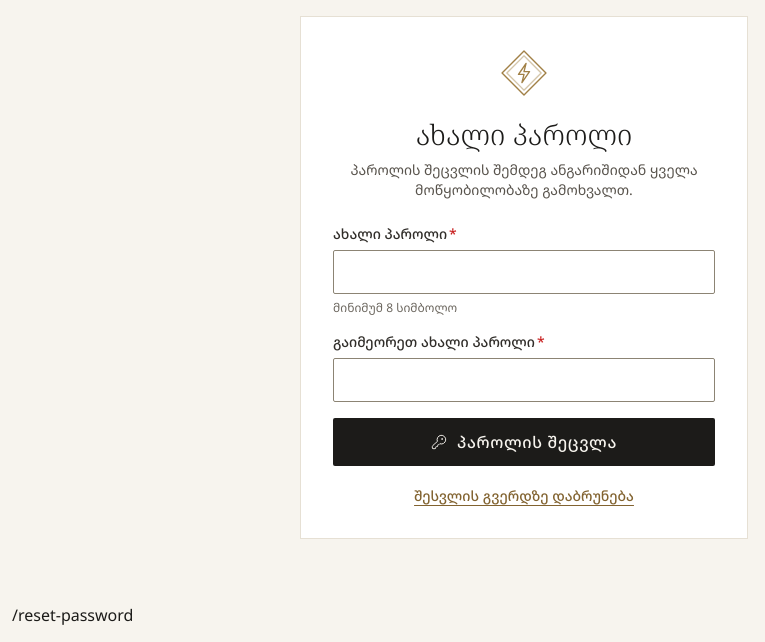
Test: the reset page › offers a new link when this one no longer works
The image size is (765, 642).
Type "brand-new-pass-7" into the password field labelled "ახალი პაროლი*" at (524, 272), box left=333, top=250, right=715, bottom=294
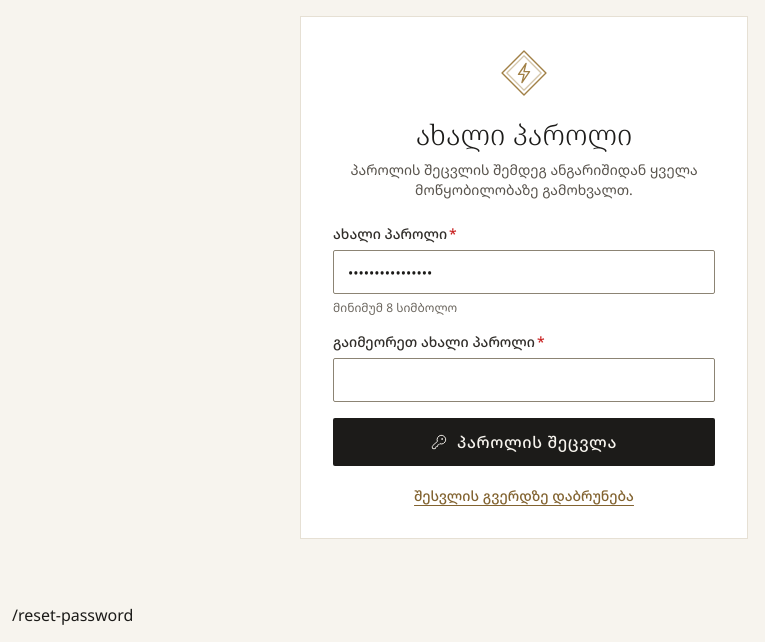
Type "brand-new-pass-7" into the password field labelled "გაიმეორეთ ახალი პაროლი*" at (524, 380), box left=333, top=358, right=715, bottom=402
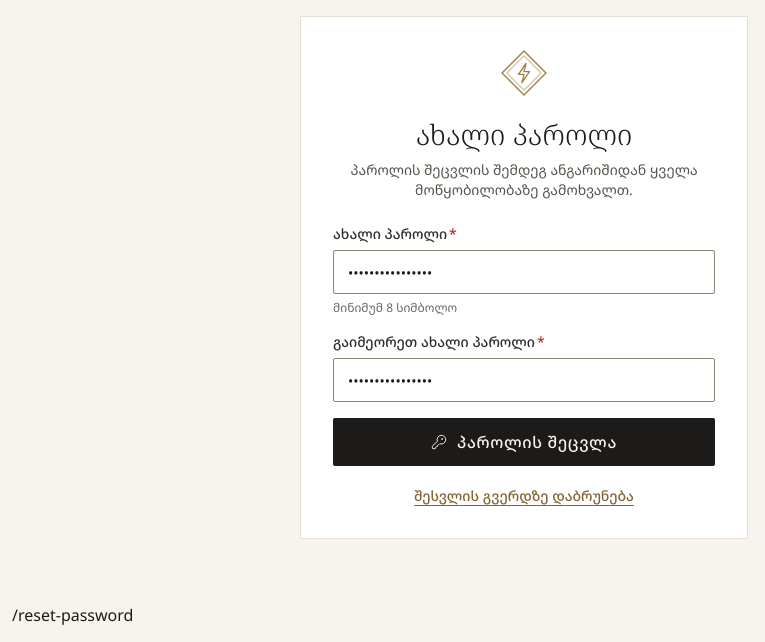
Click the button "პაროლის შეცვლა" at (524, 442), box left=333, top=418, right=715, bottom=466
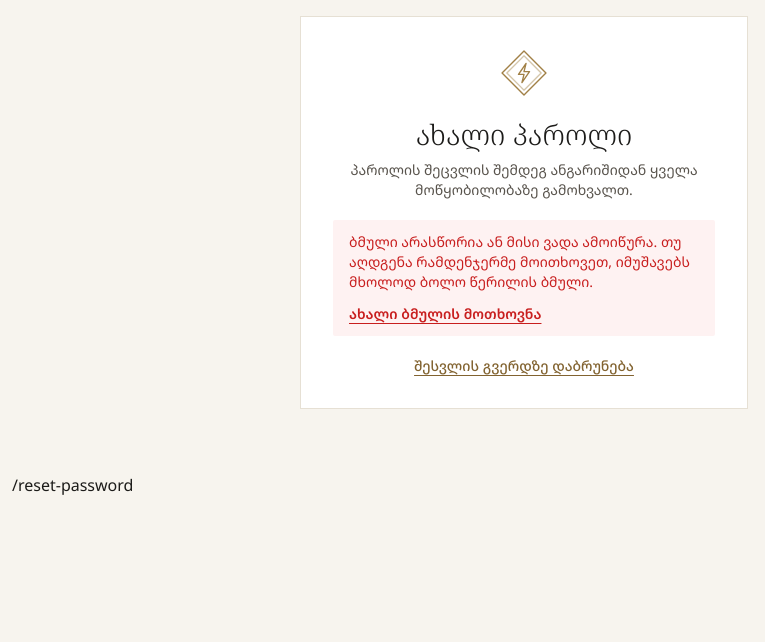
Expected: the message shows "ბმული არასწორია ან მისი ვადა ამოიწურა", left=349, top=232, right=690, bottom=291
